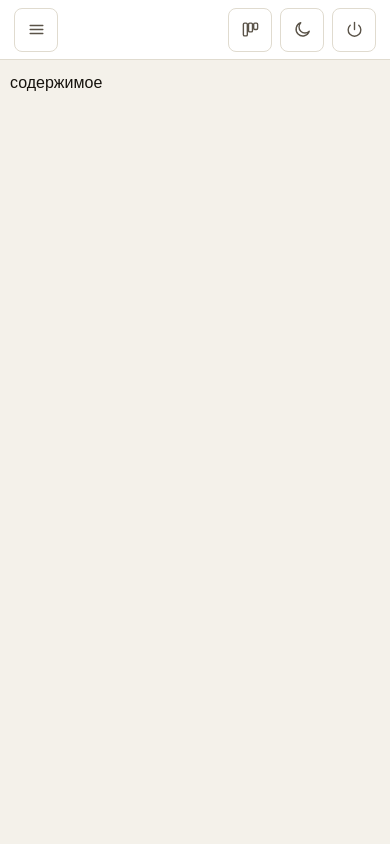
OrderLayout › «Меню» открывает сайдбар, переход по ссылке закрывает
Click the button named "Меню" at point(36, 30), box [14,8,58,52]
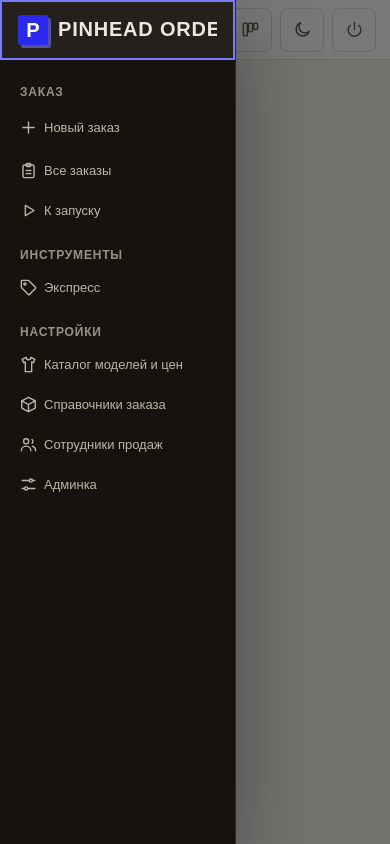
Expected: the button named "Меню" is expanded, [14,8,58,52]
Click the link "Каталог моделей и цен" at point(101, 364), box [18,354,183,374]
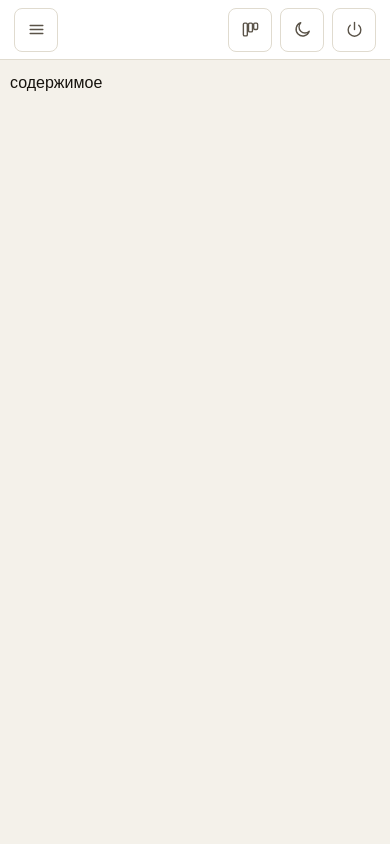
Expected: the button named "Меню" is collapsed, [14,8,58,52]
